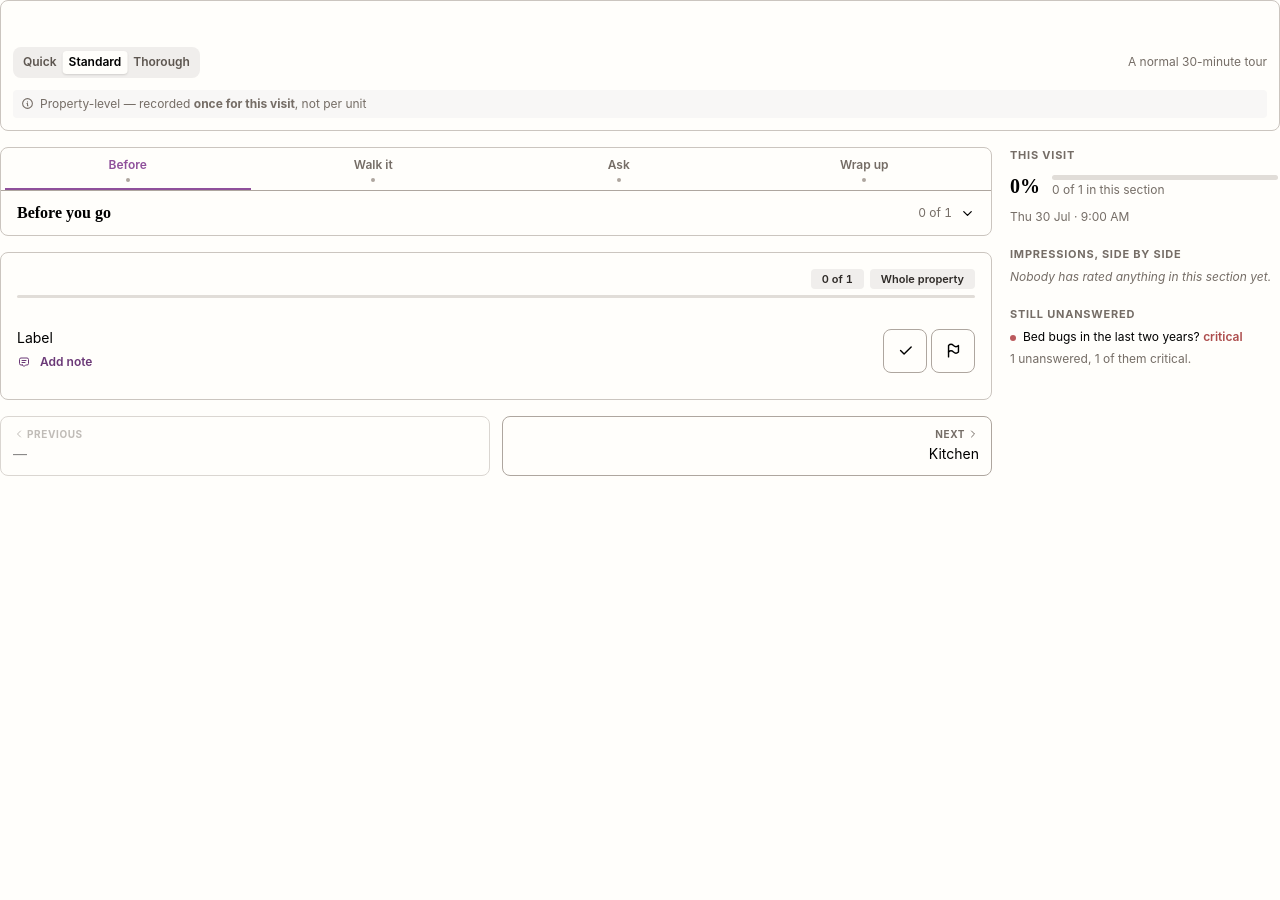
scope drives the unit switcher › shows the switcher on a unit-scoped section and names the active unit
The image size is (1280, 900).
Click the button "Before you go 0 of 1": (64, 212) [13, 191, 979, 235]
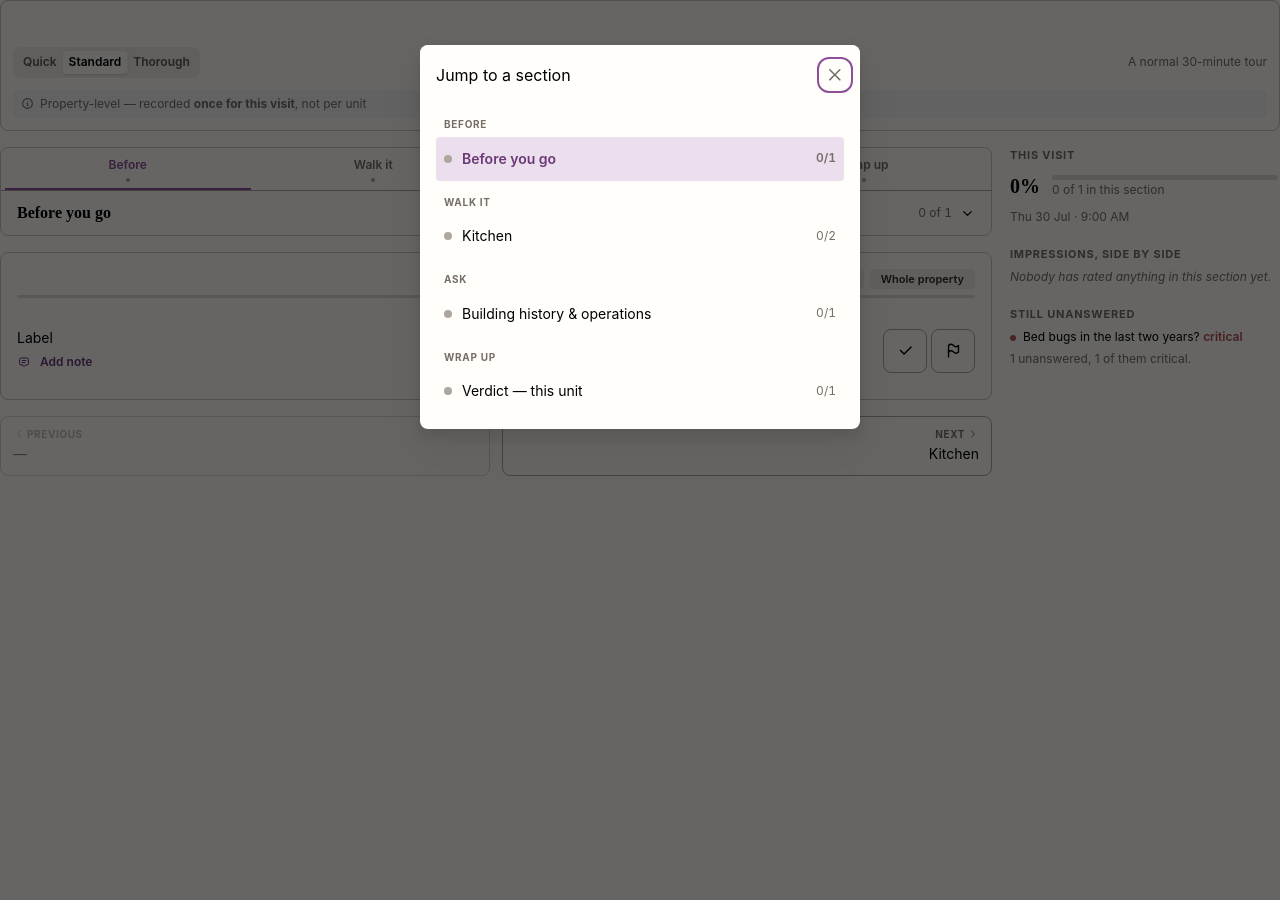
Click the button "Kitchen 0/2": (487, 236) [436, 214, 844, 258]
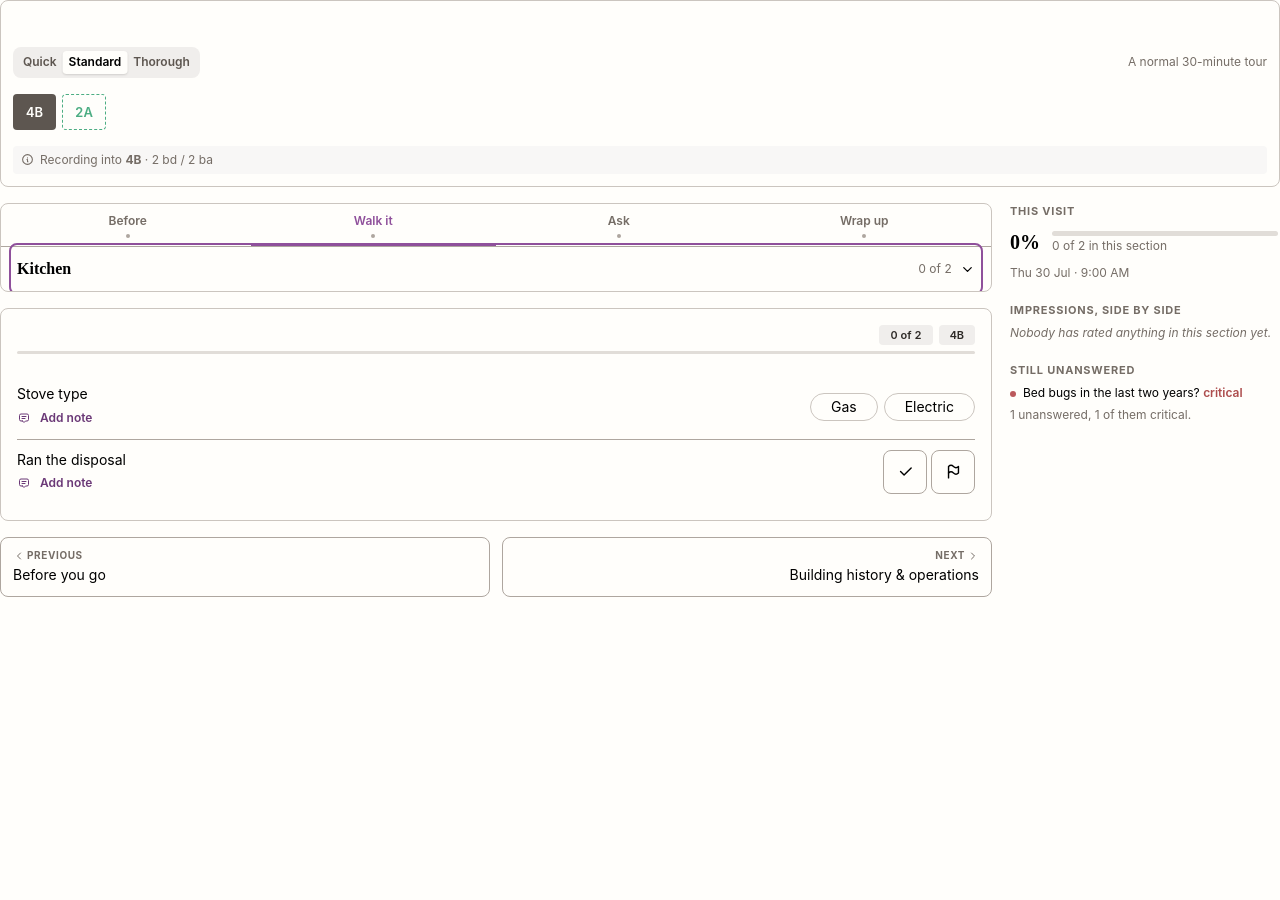
Check: the button "4B" is shown, box [13, 94, 56, 130]
Check: the button "2A" is shown, box [62, 94, 106, 130]
Check: the text "Recording into 4B · 2 bd / 2 ba" is shown, box [40, 152, 213, 168]
